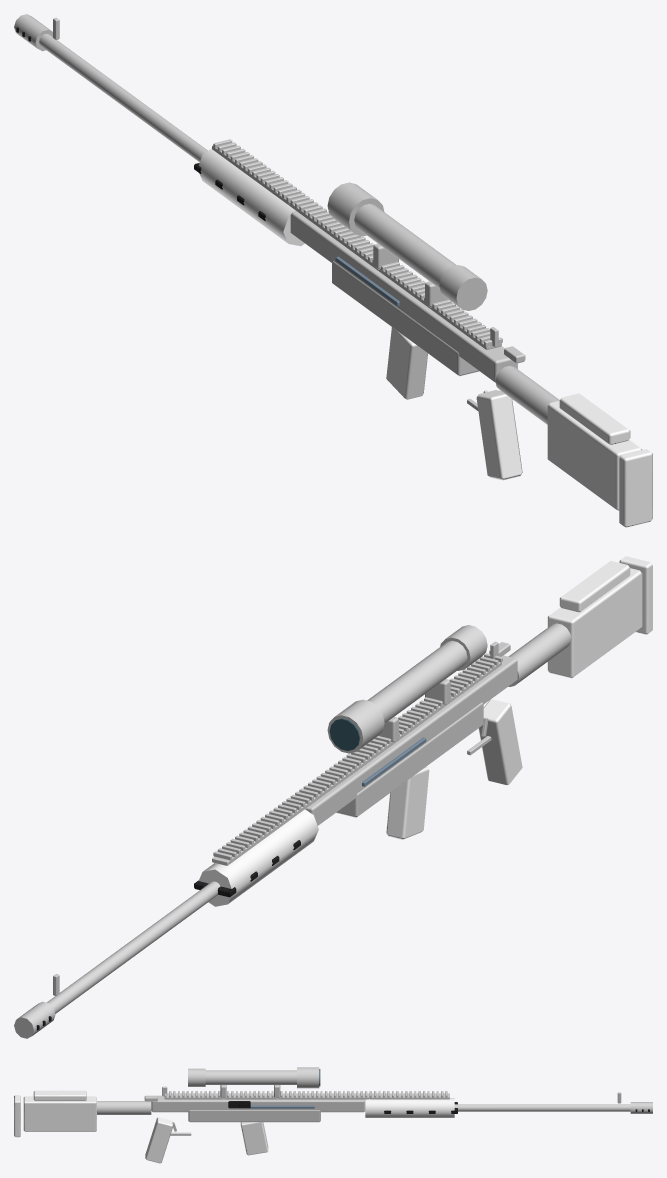
The model's file is longshot.glb.
3 views of the same model, one above another, from view 1: azimuth 30°, elevation 25°; view 2: azimuth 150°, elevation 25°; view 3: azimuth 270°, elevation 25° (orthographic). The views are drawn at different scales.
Bounding box in the file's own units: 0.05 × 0.2307 × 1.43.
5 materials, 1 textured.
